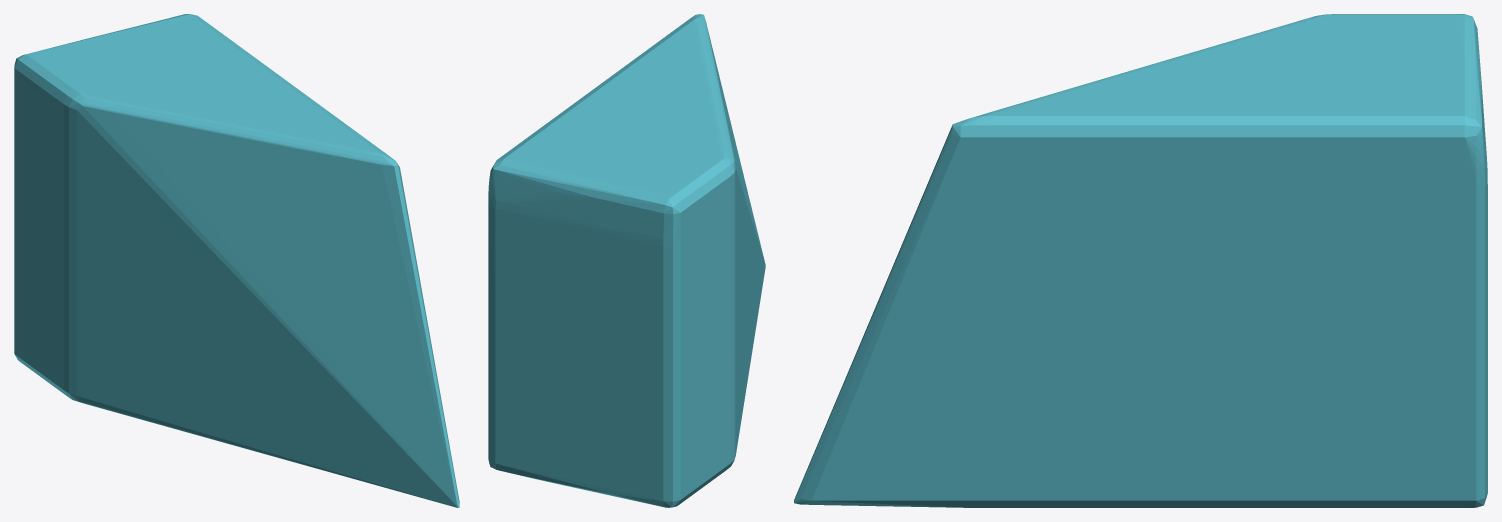
The model's file is right_elbow_link_part_2.obj.
3 views of the same model, side by side, from view 1: azimuth 30°, elevation 25°; view 2: azimuth 150°, elevation 25°; view 3: azimuth 270°, elevation 25° (orthographic). The views are drawn at different scales.
Size of the model in its own units: 0.0118 by 0.0185 by 0.0297.
